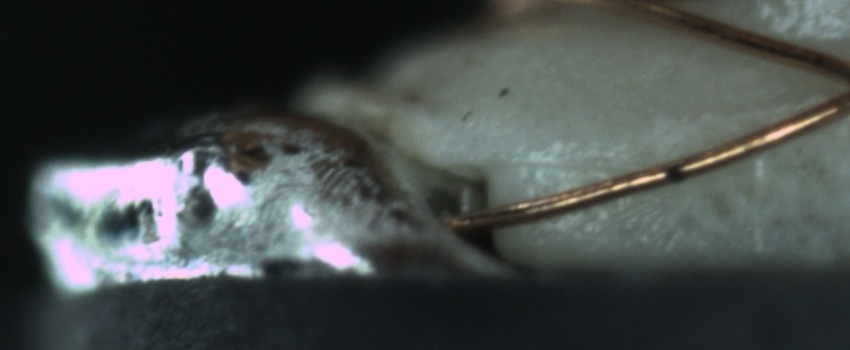CL: (809, 49, 850, 123)
DL: (508, 134, 642, 193)
